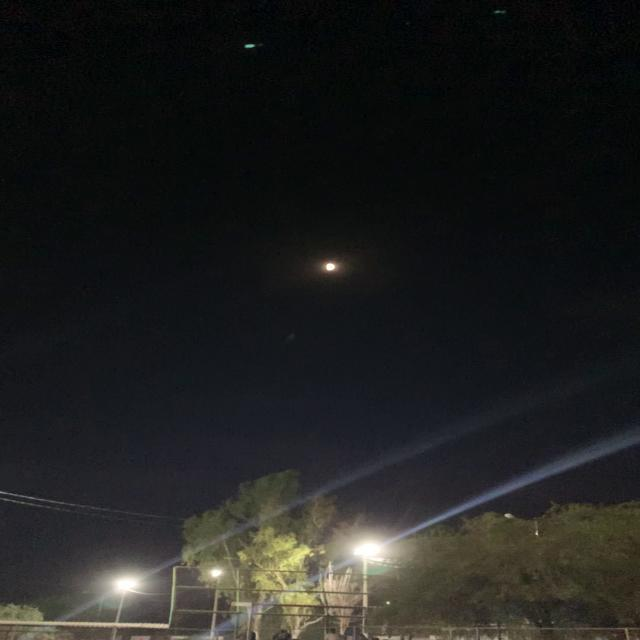moon: (320, 253, 343, 275)
